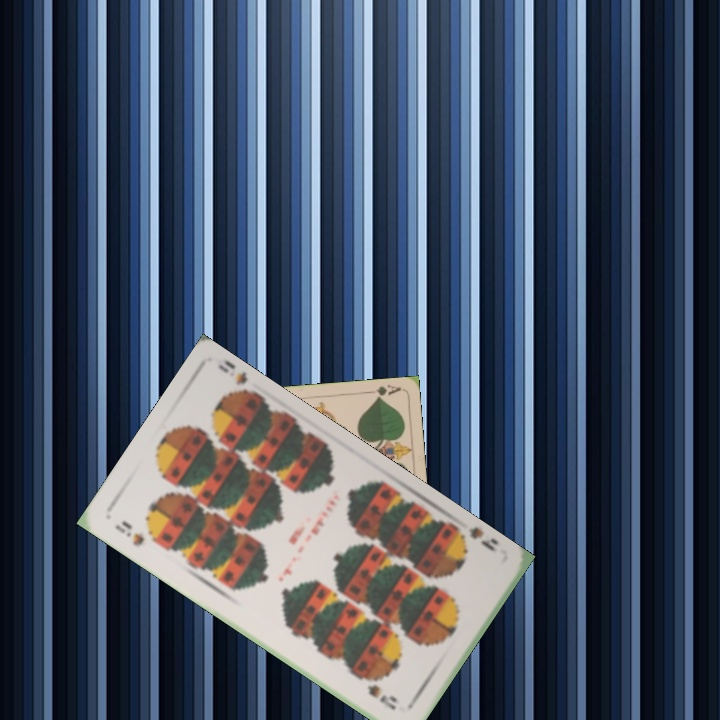GA: (363, 381, 403, 402)
S9: (451, 523, 501, 555), (111, 516, 147, 549)
